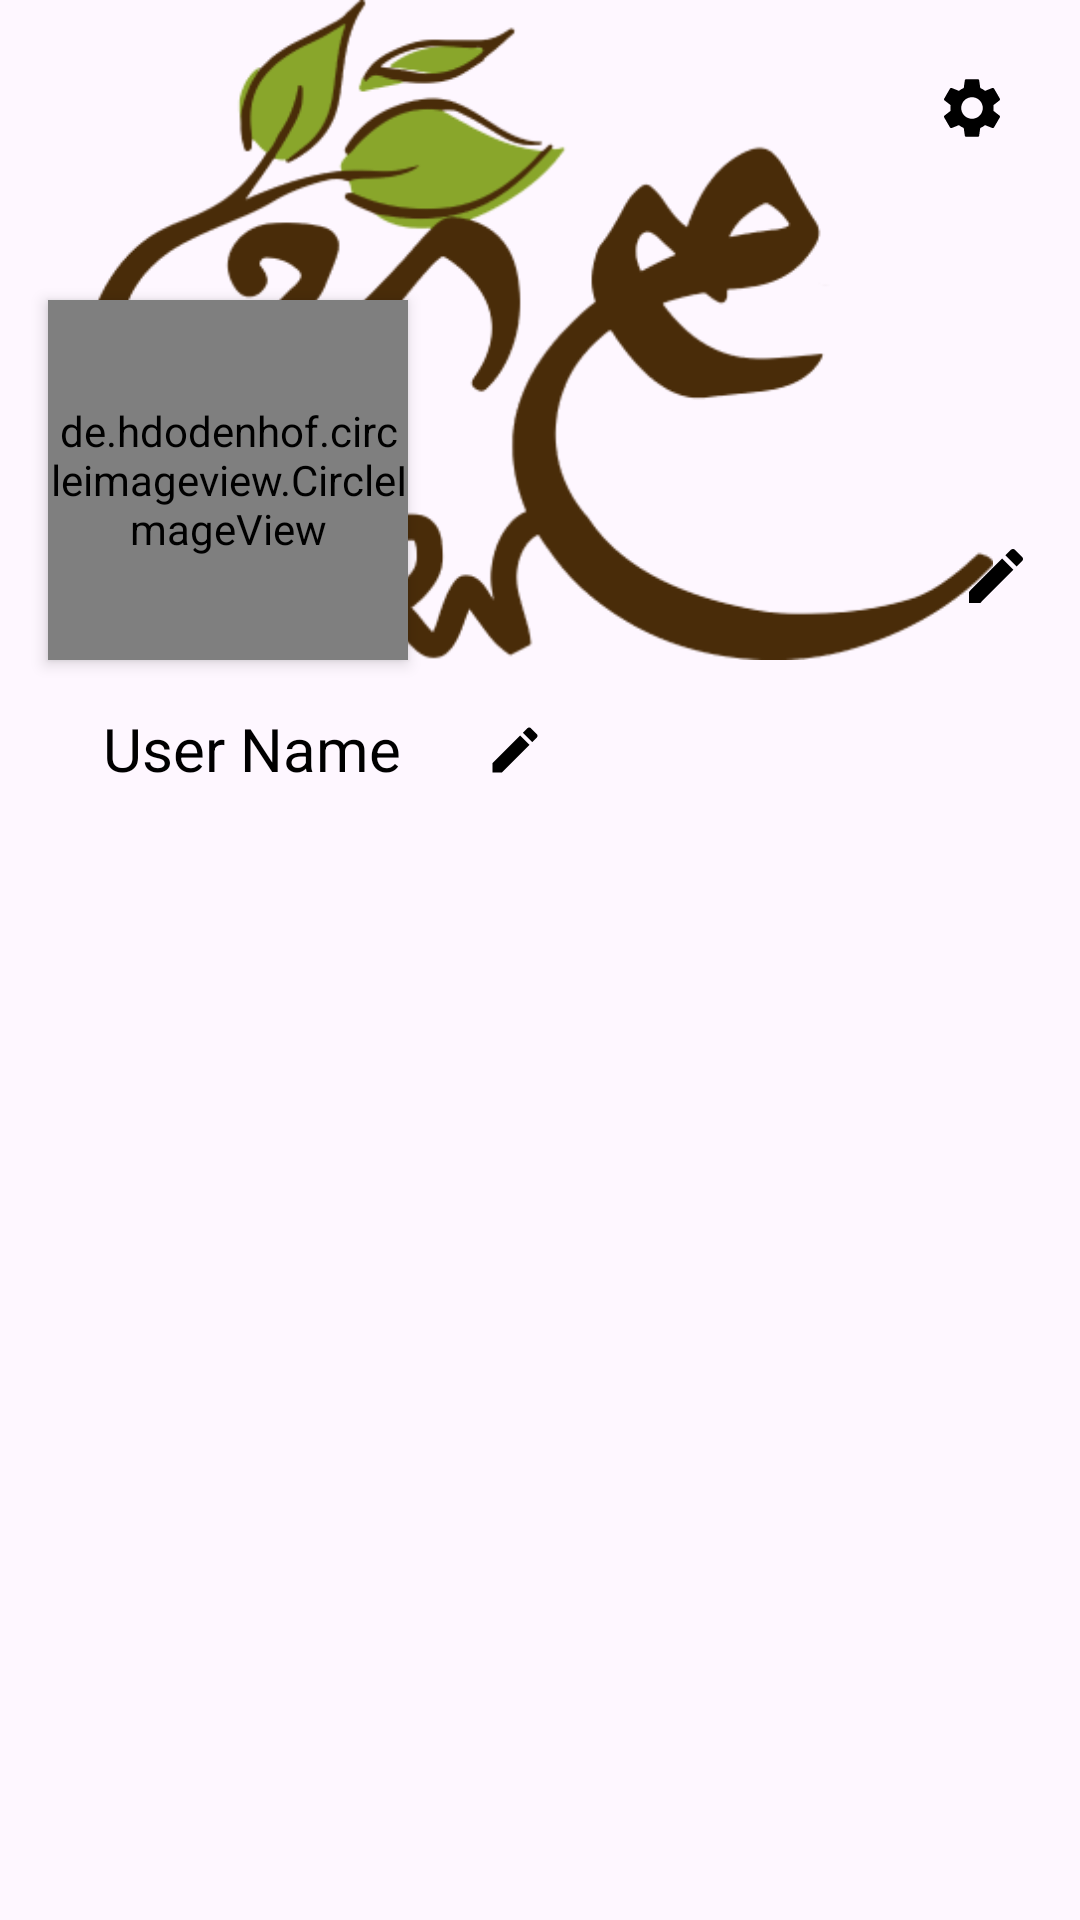

Icons on this 1080w x 1920h Android screen, each with its box as [x1, y1, x2, y2]:
setting: [944, 79, 1000, 137]
